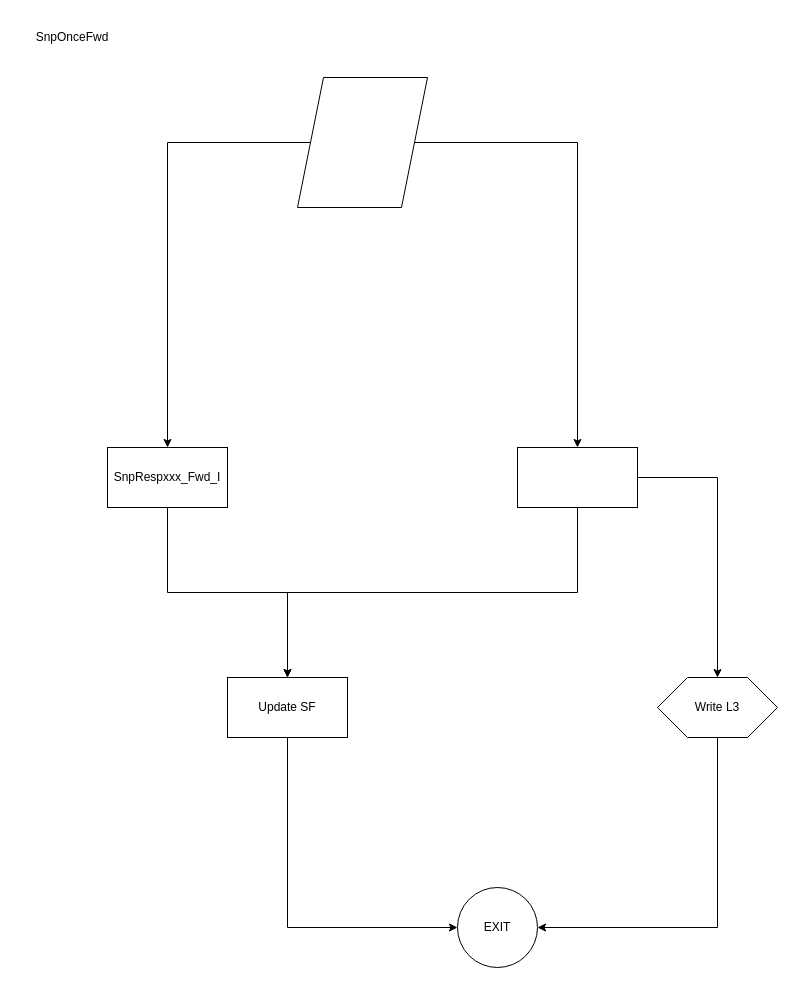
Some shapes in this 795 by 985 pixel diagram are drawn without their labels. Here are the shapes that lost their labels. From the top down, the centre of each, then its label:
At (x=362, y=142): "Tx SnpOnceFwd".
At (x=577, y=477): "SnpRespData_xxx".
